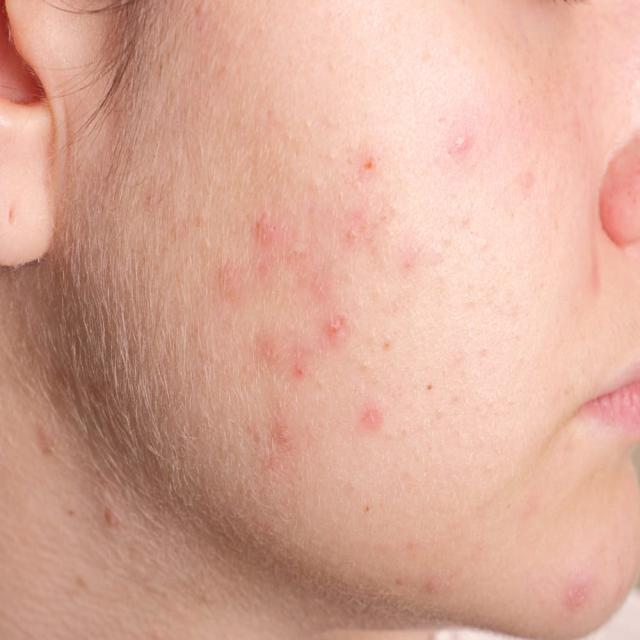dry: (60, 366, 187, 496), (64, 218, 146, 350)
